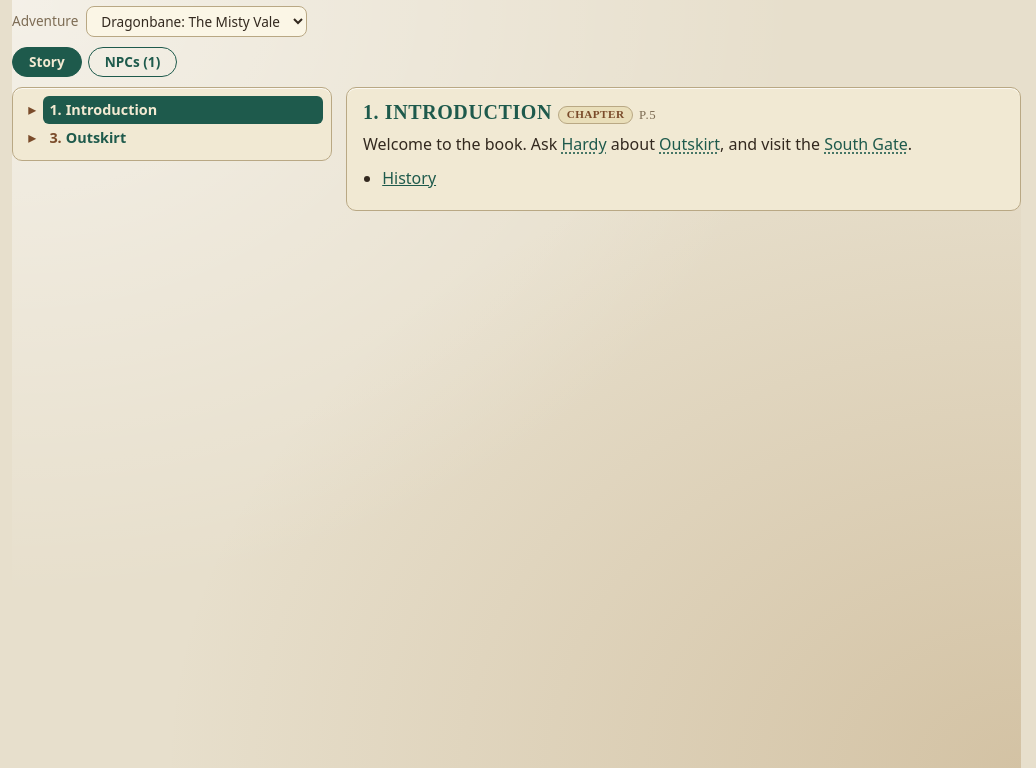
Test: AdventuresView › changing the adventure opens the other one
Select "Another Tale" in the dropdown with test id "adventure-pick": (197, 22) [86, 6, 307, 37]
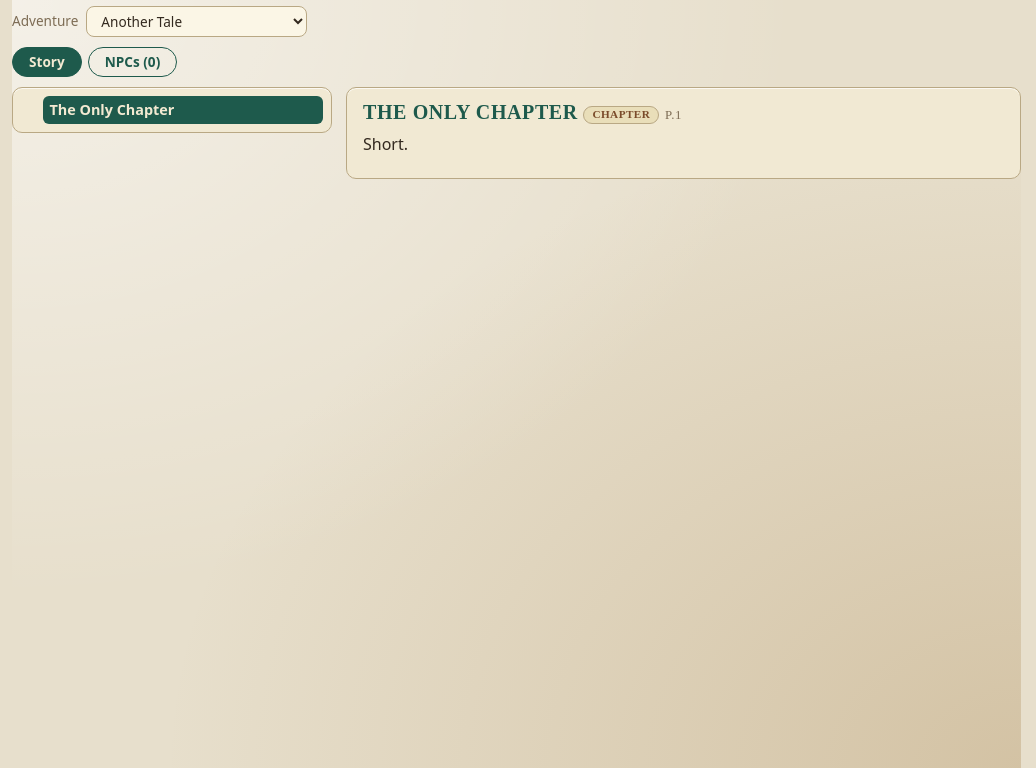
Check: the elements with test id "outline-item" read "The Only Chapter", in this order, box [43, 96, 323, 124]
Check: the element with test id "page" shows "Short.", box [363, 133, 408, 155]
